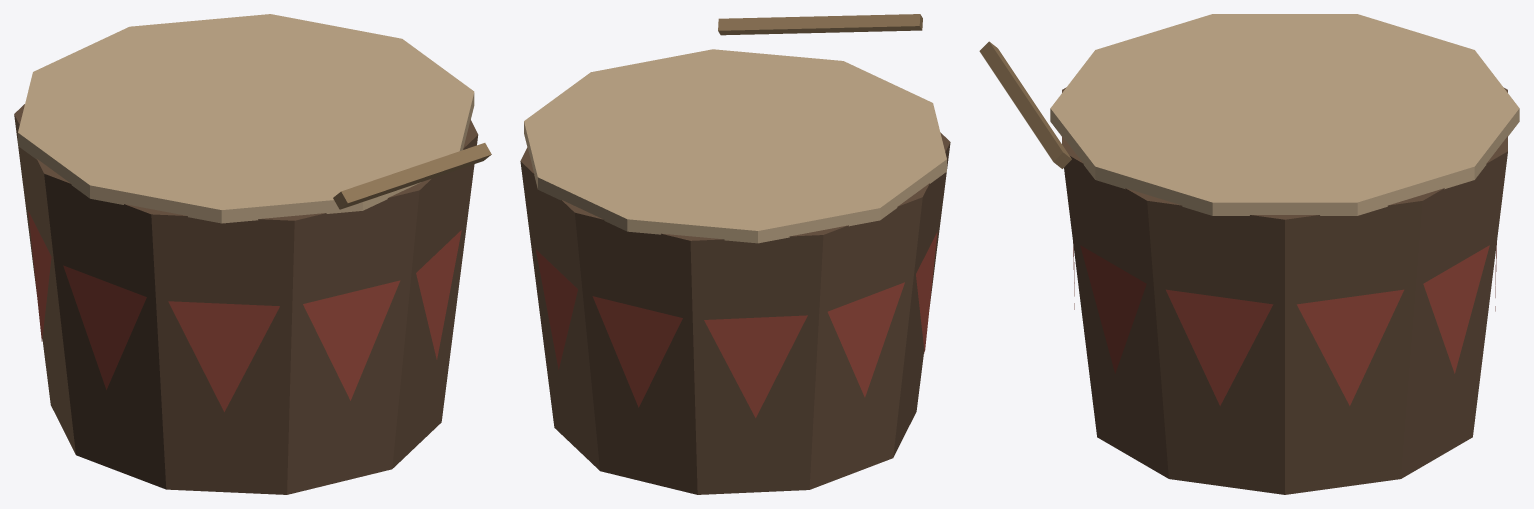
File: drum.glb
3 views of the same model, side by side, from view 1: azimuth 30°, elevation 25°; view 2: azimuth 150°, elevation 25°; view 3: azimuth 270°, elevation 25° (orthographic). The views are drawn at different scales.
Visible parts, largest first — view 1: drum body, drum skin, drum zigzag.006, drum zigzag.007, drum zigzag.005, drum stick, drum zigzag.008, drum zigzag.004; view 2: drum body, drum skin, drum zigzag.003, drum zigzag.002, drum zigzag.004, drum stick, drum zigzag.001, drum zigzag.005; view 3: drum body, drum skin, drum zigzag.009, drum zigzag, drum zigzag.001, drum zigzag.008, drum stick.
Boxes of the visible parts, left/top/right/bottom form: drum body: left=14, top=104, right=478, bottom=494; drum skin: left=18, top=14, right=474, bottom=223; drum zigzag.006: left=168, top=301, right=279, bottom=411; drum zigzag.007: left=303, top=280, right=400, bottom=400; drum zigzag.005: left=63, top=265, right=146, bottom=389; drum stick: left=333, top=143, right=491, bottom=209; drum zigzag.008: left=416, top=230, right=461, bottom=359; drum zigzag.004: left=28, top=211, right=51, bottom=341; drum body: left=520, top=132, right=950, bottom=494; drum skin: left=524, top=49, right=946, bottom=243; drum zigzag.003: left=704, top=315, right=807, bottom=417; drum zigzag.002: left=592, top=296, right=682, bottom=407; drum zigzag.004: left=827, top=282, right=904, bottom=397; drum stick: left=718, top=14, right=922, bottom=35; drum zigzag.001: left=535, top=249, right=577, bottom=369; drum zigzag.005: left=916, top=231, right=937, bottom=353; drum body: left=1062, top=87, right=1507, bottom=494; drum skin: left=1050, top=14, right=1519, bottom=215; drum zigzag.009: left=1166, top=289, right=1273, bottom=405; drum zigzag: left=1297, top=289, right=1403, bottom=405; drum zigzag.001: left=1423, top=245, right=1489, bottom=373; drum zigzag.008: left=1080, top=245, right=1146, bottom=373; drum stick: left=979, top=41, right=1071, bottom=168.
Bounding box in the file's own units: 0.38 × 0.308 × 0.4375.
